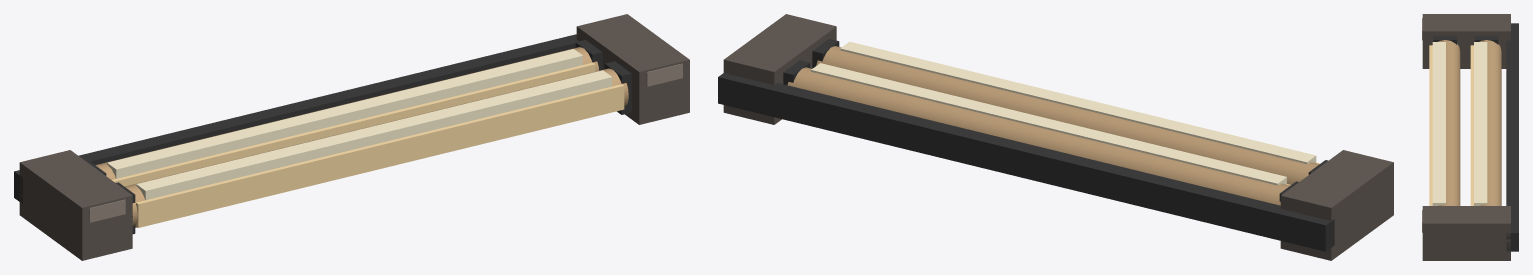
The model's file is CMU3DWallDoubleTubeLight.glb.
The picture shows the model from 3 angles, left to right: view 1: azimuth 30°, elevation 25°; view 2: azimuth 150°, elevation 25°; view 3: azimuth 270°, elevation 25°; orthographic projection. The views are drawn at different scales.
Parts seen in each view (by area): view 1: Tube 2 glass front, Tube 2 glass highlight, Tube 1 glass highlight, Left end fitting, Narrow wall rail, Right end fitting, Tube 1 glass front, Tube 2 glass body, Tube 1 glass body, Left end highlight, Right end highlight, Tube 2 right socket; view 2: Narrow wall rail, Tube 1 glass body, Tube 2 glass body, Left end fitting, Tube 2 glass highlight, Tube 1 glass highlight, Right end fitting; view 3: Right end fitting, Left end fitting, Narrow wall rail, Tube 1 glass body, Tube 2 glass body, Tube 2 glass highlight, Tube 1 glass highlight, Tube 1 glass front, Tube 2 glass front, Tube 1 left socket, Tube 2 left socket.
Part boxes in pixels (bbox=[...]): Tube 2 glass front: bbox=[136, 84, 624, 227]; Tube 2 glass highlight: bbox=[136, 70, 612, 200]; Tube 1 glass highlight: bbox=[107, 49, 582, 178]; Left end fitting: bbox=[19, 150, 132, 260]; Narrow wall rail: bbox=[14, 34, 578, 203]; Right end fitting: bbox=[576, 14, 689, 124]; Tube 1 glass front: bbox=[112, 62, 595, 186]; Tube 2 glass body: bbox=[125, 68, 628, 227]; Tube 1 glass body: bbox=[95, 47, 598, 179]; Left end highlight: bbox=[89, 199, 125, 222]; Right end highlight: bbox=[646, 63, 682, 86]; Tube 2 right socket: bbox=[604, 61, 631, 114]; Narrow wall rail: bbox=[718, 73, 1334, 251]; Tube 1 glass body: bbox=[787, 67, 1290, 205]; Tube 2 glass body: bbox=[816, 46, 1319, 184]; Left end fitting: bbox=[1280, 150, 1393, 260]; Tube 2 glass highlight: bbox=[840, 41, 1316, 163]; Tube 1 glass highlight: bbox=[811, 63, 1286, 185]; Right end fitting: bbox=[723, 14, 836, 124]; Right end fitting: bbox=[1422, 206, 1510, 260]; Left end fitting: bbox=[1422, 14, 1510, 68]; Narrow wall rail: bbox=[1506, 23, 1518, 251]; Tube 1 glass body: bbox=[1479, 40, 1501, 205]; Tube 2 glass body: bbox=[1438, 40, 1460, 205]; Tube 2 glass highlight: bbox=[1432, 42, 1445, 205]; Tube 1 glass highlight: bbox=[1474, 42, 1487, 205]; Tube 1 glass front: bbox=[1470, 45, 1473, 205]; Tube 2 glass front: bbox=[1429, 45, 1432, 205]; Tube 1 left socket: bbox=[1474, 36, 1498, 44]; Tube 2 left socket: bbox=[1433, 36, 1456, 44].
Size of the model in its own units: 0.75 by 0.0625 by 0.1465.
